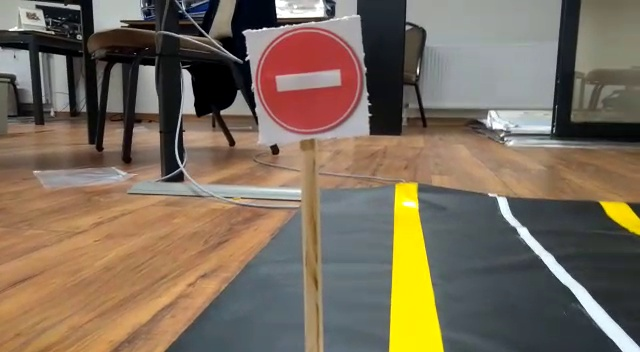girisi_olmayan_yol: (248, 28, 365, 136)
